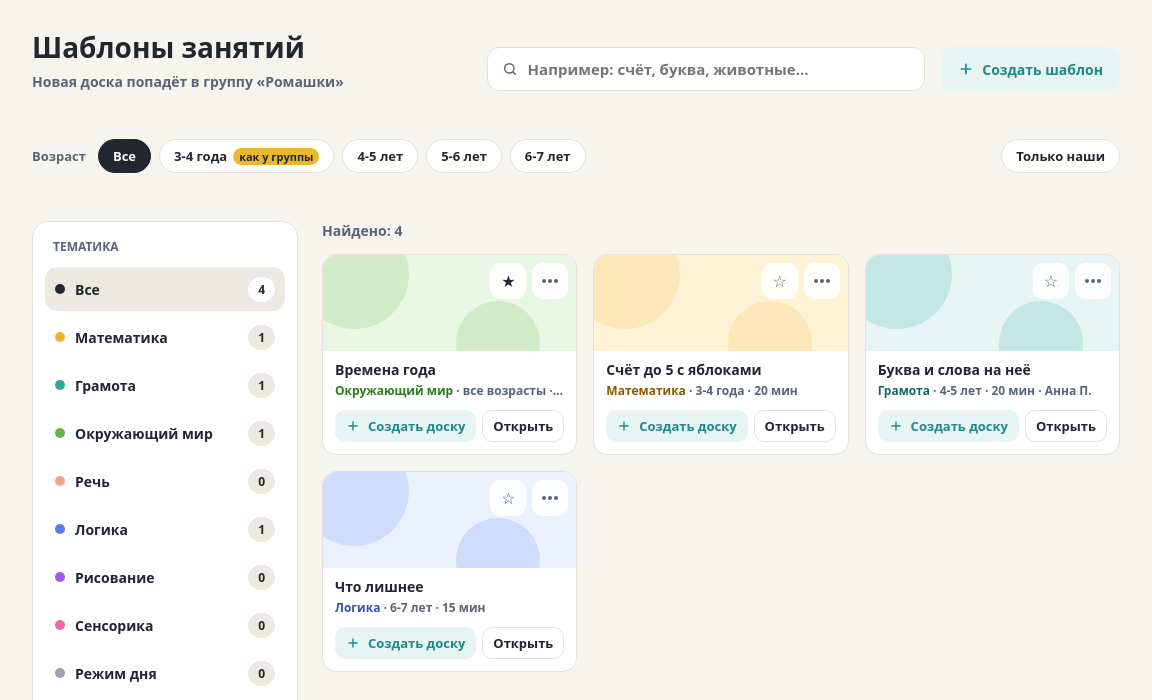
Scenario: TemplatesPage › поиск «буква» оставляет одну карточку
In the field named "Поиск": coordinates (718, 69) 526,47 -> 910,91, type "буква"
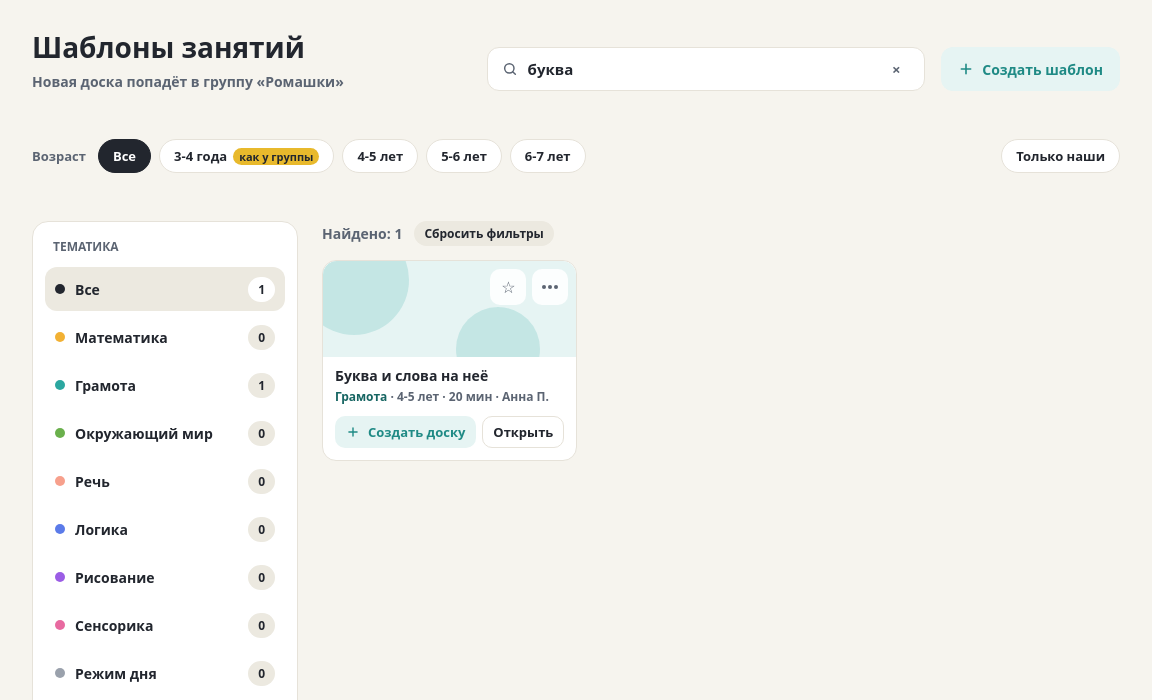
Expected: the text "Найдено: 1" is shown, 322,224 -> 402,243
